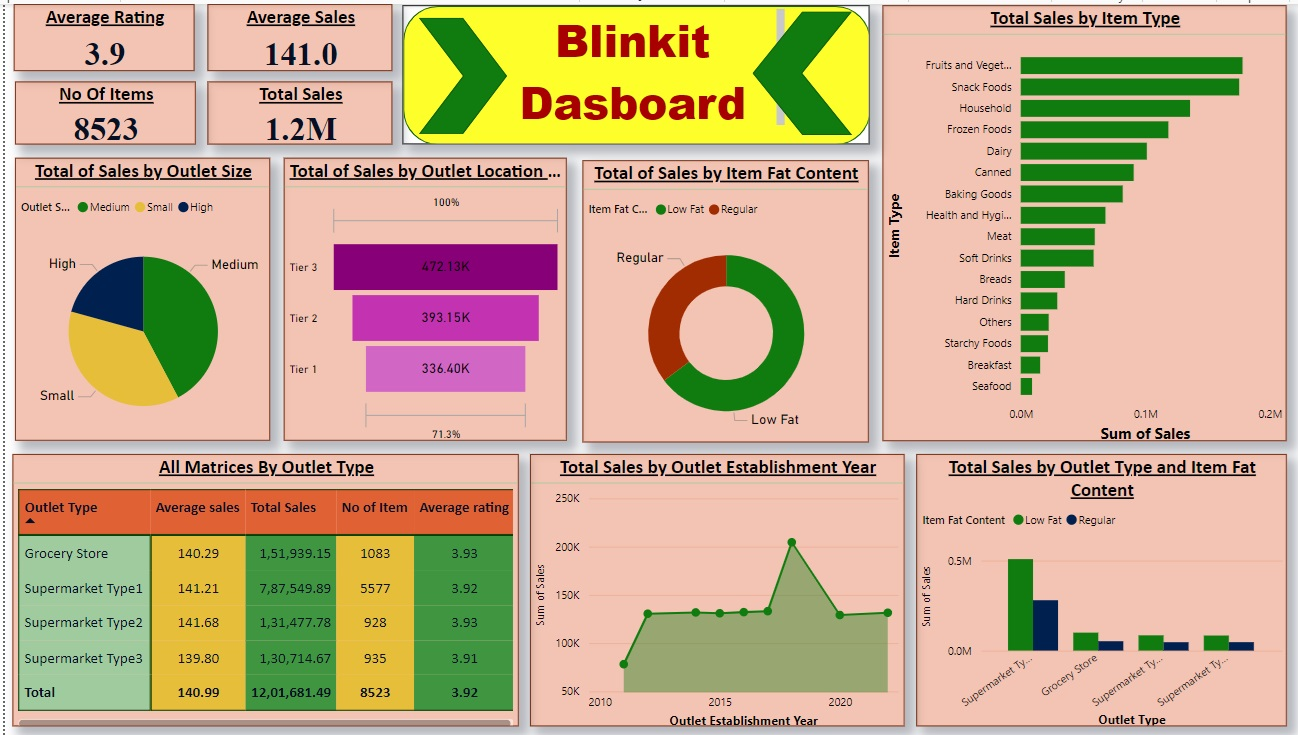

This screenshot's page, from the dashboard's own definition file:
{"tool":"powerbi","page":{"name":"Page 1","canvas":[1280,720],"ordinal":0},"visuals":[{"type":"donutChart","title":"Total of Sales by Item Fat Content","fields":{"Category":["BlinkIT Grocery Data.Item Fat Content"],"Y":["Sum(BlinkIT Grocery Data.Sales)"]},"box":[565.4,152.3,279.9,275.8],"z":0},{"type":"barChart","title":"Total Sales by Item Type","fields":{"Category":["BlinkIT Grocery Data.Item Type"],"Y":["Sum(BlinkIT Grocery Data.Sales)"]},"box":[859,1.4,395.2,426.8],"z":1000},{"type":"clusteredColumnChart","title":"Total Sales by Outlet Type and Item Fat Content","fields":{"Category":["BlinkIT Grocery Data.Outlet Type"],"Y":["Sum(BlinkIT Grocery Data.Sales)"],"Series":["BlinkIT Grocery Data.Item Fat Content"]},"box":[891.9,440.5,362.3,266.2],"z":2000},{"type":"lineChart","title":"Total Sales by Outlet Establishment Year","fields":{"Y":["Sum(BlinkIT Grocery Data.Sales)"],"Category":["BlinkIT Grocery Data.Outlet Establishment Year"]},"box":[513.2,440.5,366.4,266.2],"z":3000},{"type":"pieChart","title":"Total of Sales by Outlet Size","fields":{"Y":["Sum(BlinkIT Grocery Data.Sales)"],"Category":["BlinkIT Grocery Data.Outlet Size"]},"box":[9.6,150.9,249.7,277.2],"z":4000},{"type":"funnel","title":"Total of Sales by Outlet Location Type","fields":{"Y":["Sum(BlinkIT Grocery Data.Sales)"],"Category":["BlinkIT Grocery Data.Outlet Location Type"]},"box":[273.1,150.9,277.2,277.2],"z":5000},{"type":"card","title":"Average Sales","fields":{"Values":["BlinkIT Grocery Data.Measure"]},"box":[197.6,0,181.1,65.9],"z":6000},{"type":"pivotTable","title":"All Matrices By Outlet Type","fields":{"Values":["BlinkIT Grocery Data.Measure","BlinkIT Grocery Data.Total Sales","BlinkIT Grocery Data.No of Item","BlinkIT Grocery Data.Average rating"],"Rows":["BlinkIT Grocery Data.Outlet Type"]},"box":[6.9,440.5,495.4,266.2],"z":7000},{"type":"card","title":"Total Sales","fields":{"Values":["BlinkIT Grocery Data.Total Sales"]},"box":[197.6,75.5,181.1,61.7],"z":8000},{"type":"card","title":"Average Rating","fields":{"Values":["BlinkIT Grocery Data.Average rating"]},"box":[9,0,177,65.9],"z":9000},{"type":"card","title":"No Of Items","fields":{"Values":["BlinkIT Grocery Data.No of Item"]},"box":[9.6,75.5,177,61.7],"z":10000},{"type":"shape","box":[388.3,1.4,456.9,135.8],"z":11000},{"type":"textbox","box":[467.9,0,299.1,127.6],"z":12000},{"type":"shape","box":[731.4,6.9,97.4,120.8],"z":13000},{"type":"shape","box":[404.8,13.7,86.4,113.9],"z":14000}]}

Visuals, with their boxes in screenshot pixels (x1, y1, x2, y2), scaled from the page's 1280x720 canvas onto the 1298x735 screenshot:
"Total of Sales by Item Fat Content" donutChart: {"x1": 573, "y1": 155, "x2": 857, "y2": 437}
"Total Sales by Item Type" barChart: {"x1": 871, "y1": 1, "x2": 1272, "y2": 437}
"Total Sales by Outlet Type and Item Fat Content" clusteredColumnChart: {"x1": 904, "y1": 450, "x2": 1272, "y2": 721}
"Total Sales by Outlet Establishment Year" lineChart: {"x1": 520, "y1": 450, "x2": 892, "y2": 721}
"Total of Sales by Outlet Size" pieChart: {"x1": 10, "y1": 154, "x2": 263, "y2": 437}
"Total of Sales by Outlet Location Type" funnel: {"x1": 277, "y1": 154, "x2": 558, "y2": 437}
"Average Sales" card: {"x1": 200, "y1": 0, "x2": 384, "y2": 67}
"All Matrices By Outlet Type" pivotTable: {"x1": 7, "y1": 450, "x2": 509, "y2": 721}
"Total Sales" card: {"x1": 200, "y1": 77, "x2": 384, "y2": 140}
"Average Rating" card: {"x1": 9, "y1": 0, "x2": 189, "y2": 67}
"No Of Items" card: {"x1": 10, "y1": 77, "x2": 189, "y2": 140}
shape: {"x1": 394, "y1": 1, "x2": 857, "y2": 140}
textbox: {"x1": 474, "y1": 0, "x2": 778, "y2": 130}
shape: {"x1": 742, "y1": 7, "x2": 840, "y2": 130}
shape: {"x1": 410, "y1": 14, "x2": 498, "y2": 130}
